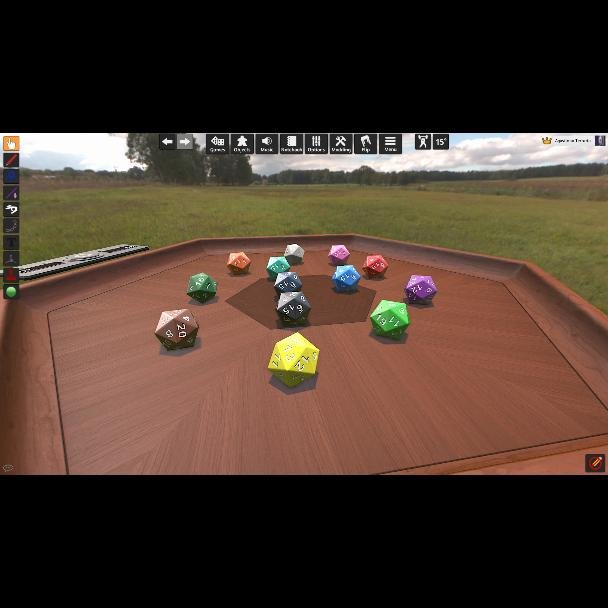d20: (266, 332, 319, 387), (154, 310, 200, 350), (370, 300, 408, 340), (274, 292, 310, 326), (188, 272, 218, 304), (408, 274, 438, 306), (332, 266, 358, 292), (274, 272, 302, 296), (362, 255, 388, 279), (266, 256, 290, 280), (227, 252, 250, 274), (284, 244, 304, 266), (328, 246, 348, 266)
